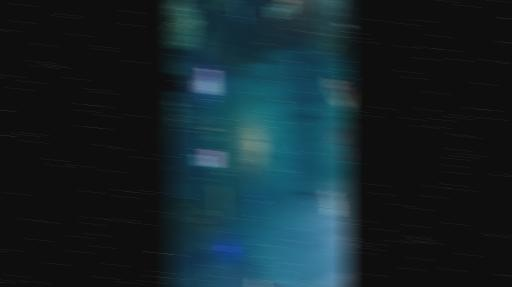Fish: (327, 77, 350, 109), (271, 0, 293, 18), (325, 190, 338, 215), (334, 143, 349, 163), (167, 273, 190, 285), (330, 128, 343, 149), (338, 116, 349, 140), (238, 4, 244, 23), (255, 151, 266, 160), (266, 77, 274, 89), (249, 60, 258, 70), (259, 68, 268, 78), (292, 60, 298, 74), (267, 55, 276, 63), (263, 140, 271, 149), (252, 78, 261, 85), (259, 76, 265, 85), (258, 161, 264, 170), (263, 51, 269, 59), (266, 51, 271, 60), (300, 173, 309, 178), (303, 192, 318, 195), (341, 23, 349, 28), (273, 97, 277, 106), (308, 181, 317, 185), (171, 166, 178, 171), (276, 64, 280, 69), (310, 197, 314, 200)
